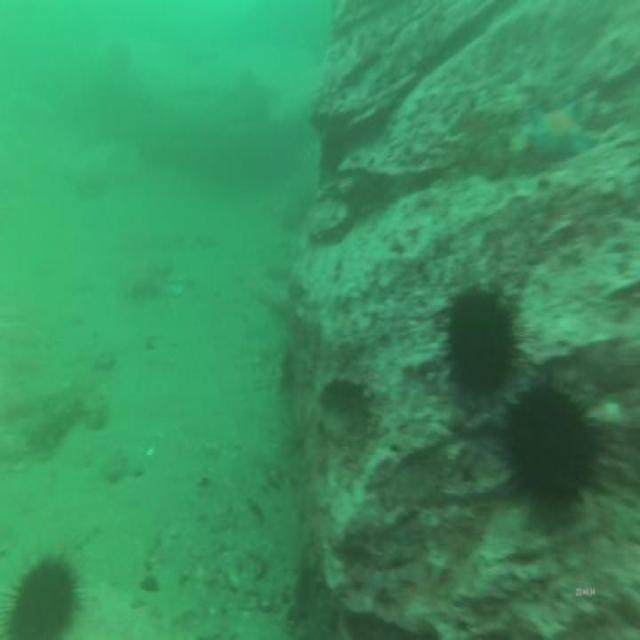echinus: (505, 379, 597, 514), (444, 275, 519, 408), (3, 547, 81, 640)
holothurian: (23, 379, 110, 460)
starfish: (520, 93, 595, 168)
